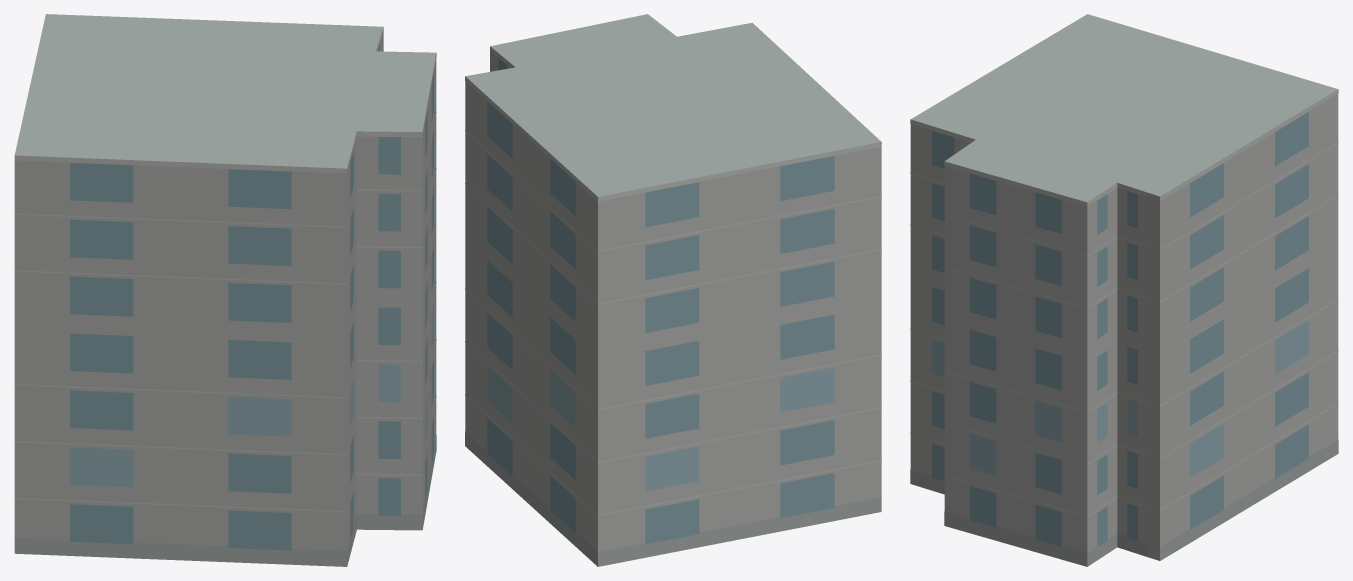
Rendered from survey-upis-32743063.glb.
The picture shows the model from 3 angles, left to right: view 1: azimuth 30°, elevation 25°; view 2: azimuth 150°, elevation 25°; view 3: azimuth 270°, elevation 25°; orthographic projection. The views are drawn at different scales.
Visible parts, largest first — view 1: survey-upis-32743063.tmp; view 2: survey-upis-32743063.tmp; view 3: survey-upis-32743063.tmp.
Boxes of the visible parts, x1=… form: survey-upis-32743063.tmp: x1=14, y1=14, x2=436, y2=566; survey-upis-32743063.tmp: x1=465, y1=14, x2=881, y2=566; survey-upis-32743063.tmp: x1=910, y1=14, x2=1338, y2=566.
Bounding box in the file's own units: 21.3 × 19.2 × 20.45.
